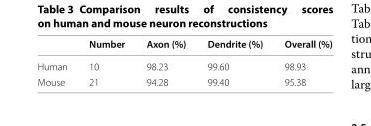table: (36, 36, 331, 87)
table column: (196, 36, 272, 87), (135, 36, 196, 87), (272, 36, 331, 87), (77, 36, 135, 87), (36, 36, 77, 87)
table column header: (36, 36, 331, 54)
table row: (36, 54, 331, 73), (36, 36, 331, 54), (36, 73, 331, 87)
